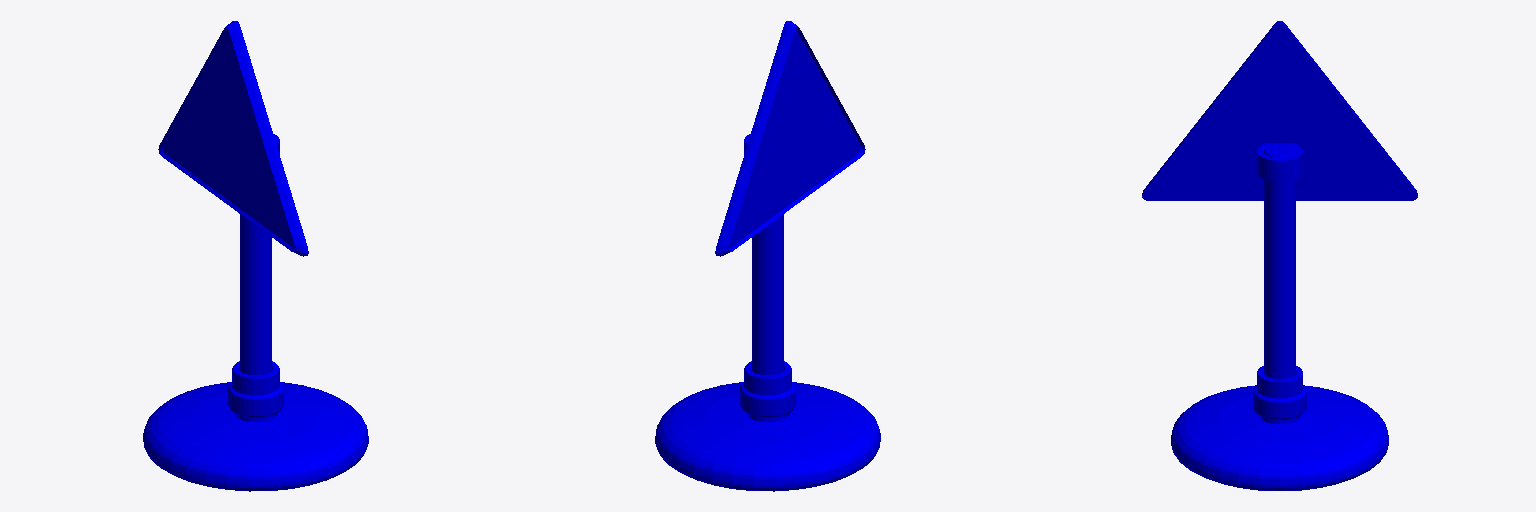
robot.urdf — sign:
<?xml version="1.0"?>
<robot name="sign">
  <link name="base">
   <contact>
      <lateral_friction value="1.0"/>
      <rolling_friction value="0.0"/>
      <contact_cfm value="0.0"/>
      <contact_erp value="1.0"/>
    </contact>
    <inertial>
      <origin rpy="0 0 0" xyz="0 0 0"/>
       <mass value="1.0"/>
       <inertia ixx="1" ixy="0" ixz="0" iyy="1" iyz="0" izz="1"/>
    </inertial>
    <visual>
      <geometry>
        <mesh filename="OBJ/sign.obj" scale="1 1 1"/>
      </geometry>
      <origin rpy="0 0 0" xyz="0 0 0" />
      <material name="blue"/>
    </visual>
    <collision>
      <origin rpy="0 0 0" xyz="0 0 0"/>
      <geometry>
         <mesh filename="OBJ/sign.obj" scale="1 1 1"/>
      </geometry>
    </collision>
  </link>

<material name="red"><color rgba="0.99 0 0 1"/></material>
<material name="orange"><color rgba="1 0.5 0 1"/></material>
<material name="yellow"><color rgba="0.95 0.95 0 1"/></material>
<material name="green"><color rgba="0 0.99 0 1"/></material>
<material name="skyblue"><color rgba="0.53 0.81 0.92 1"/></material>
<material name="blue"><color rgba="0 0 0.99 1"/></material>
<material name="purple"><color rgba="0.95 0 0.95 1"/></material>



</robot>

--- Render facts (derived) ---
3 views of the same robot in one strip: view 1: azimuth 30°, elevation 25°; view 2: azimuth 150°, elevation 25°; view 3: azimuth 270°, elevation 25° (orthographic).
Robot: sign — 1 links, 0 joints (none); root link base; default pose: all joints at 0.
Visible links, largest first — view 1: base; view 2: base; view 3: base.
Link boxes in pixels (x1=…): base: x1=143, y1=21, x2=368, y2=491; base: x1=655, y1=21, x2=880, y2=491; base: x1=1142, y1=21, x2=1417, y2=490.
Size in the robot's own frame: 0.0801 by 0.1011 by 0.1679 metres.
Meshes: 1 distinct files referenced, 1 mesh visuals loaded (1 OBJ).